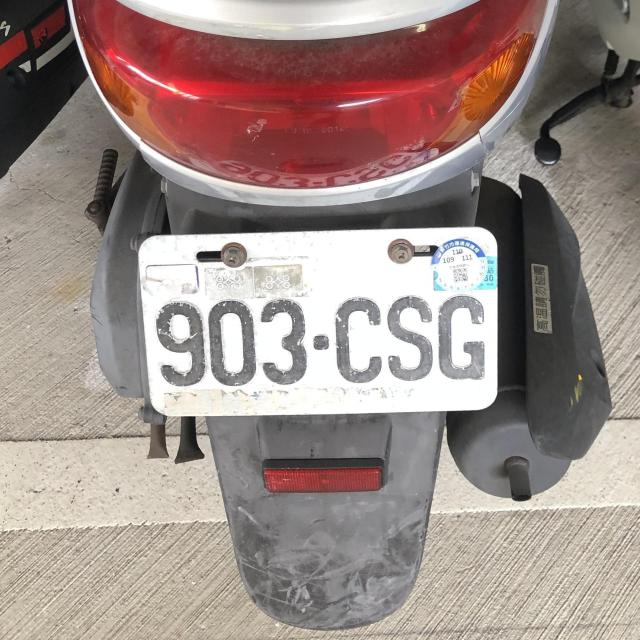W: (130, 219, 504, 418)
